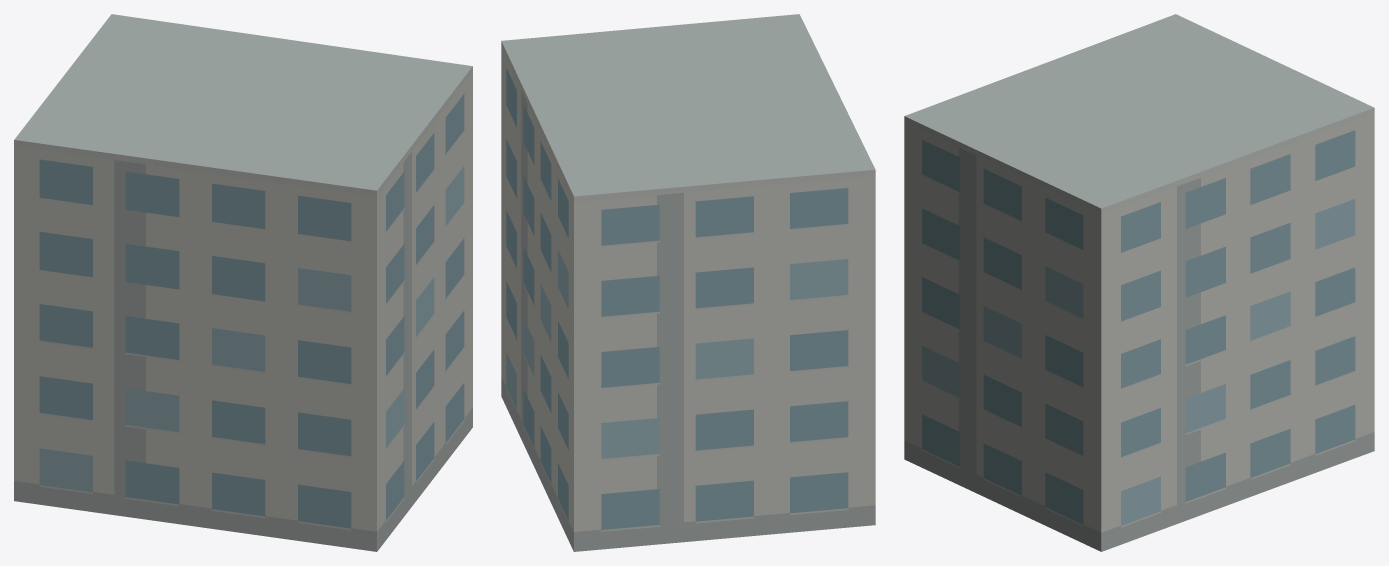
The model's file is survey-upis-32889215.glb.
The picture shows the model from 3 angles, left to right: view 1: azimuth 30°, elevation 25°; view 2: azimuth 150°, elevation 25°; view 3: azimuth 270°, elevation 25°; orthographic projection. The views are drawn at different scales.
Parts seen in each view (by area): view 1: survey-upis-32889215.tmp; view 2: survey-upis-32889215.tmp; view 3: survey-upis-32889215.tmp.
Boxes of the visible parts, left/top/right/bottom form: survey-upis-32889215.tmp: left=14, top=14, right=472, bottom=551; survey-upis-32889215.tmp: left=501, top=14, right=875, bottom=551; survey-upis-32889215.tmp: left=904, top=14, right=1374, bottom=551.
Size of the model in its own units: 17.39 by 14.3 by 17.76.
